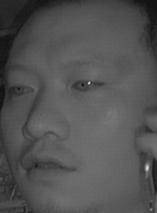eye: (69, 74, 102, 96), (7, 78, 38, 100)
mouth: (18, 146, 78, 186)
